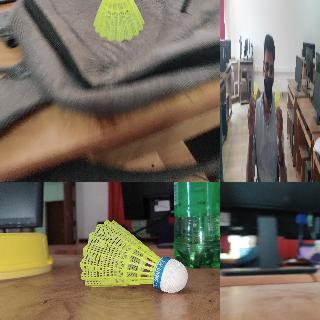shuttlecock: (80, 219, 186, 293), (92, 0, 144, 43), (274, 85, 280, 111), (253, 81, 258, 107)
